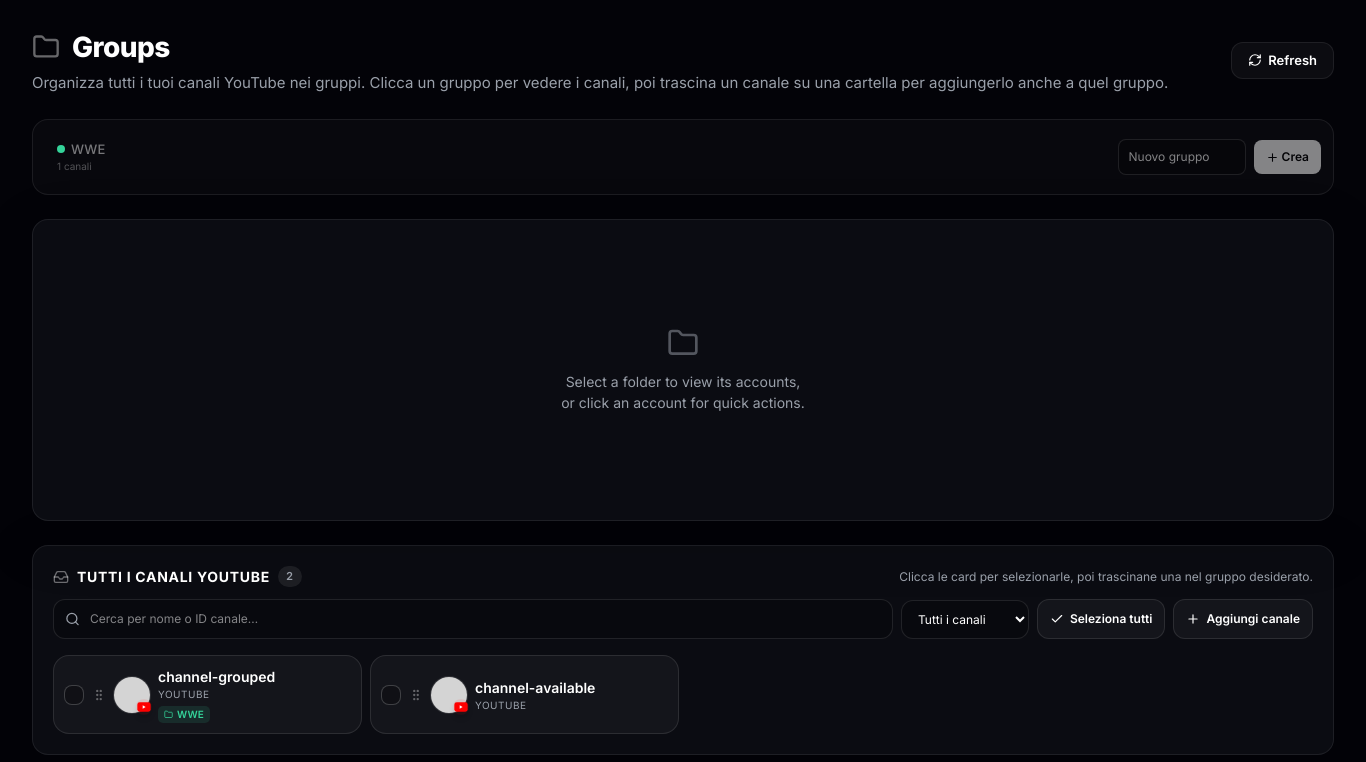
Test: GroupsPage › toggles an individual channel selection
The width and height of the screenshot is (1366, 762).
Click the button named "Seleziona channel-available" at coordinates (391, 694), box left=381, top=684, right=401, bottom=704
(page scrolled)
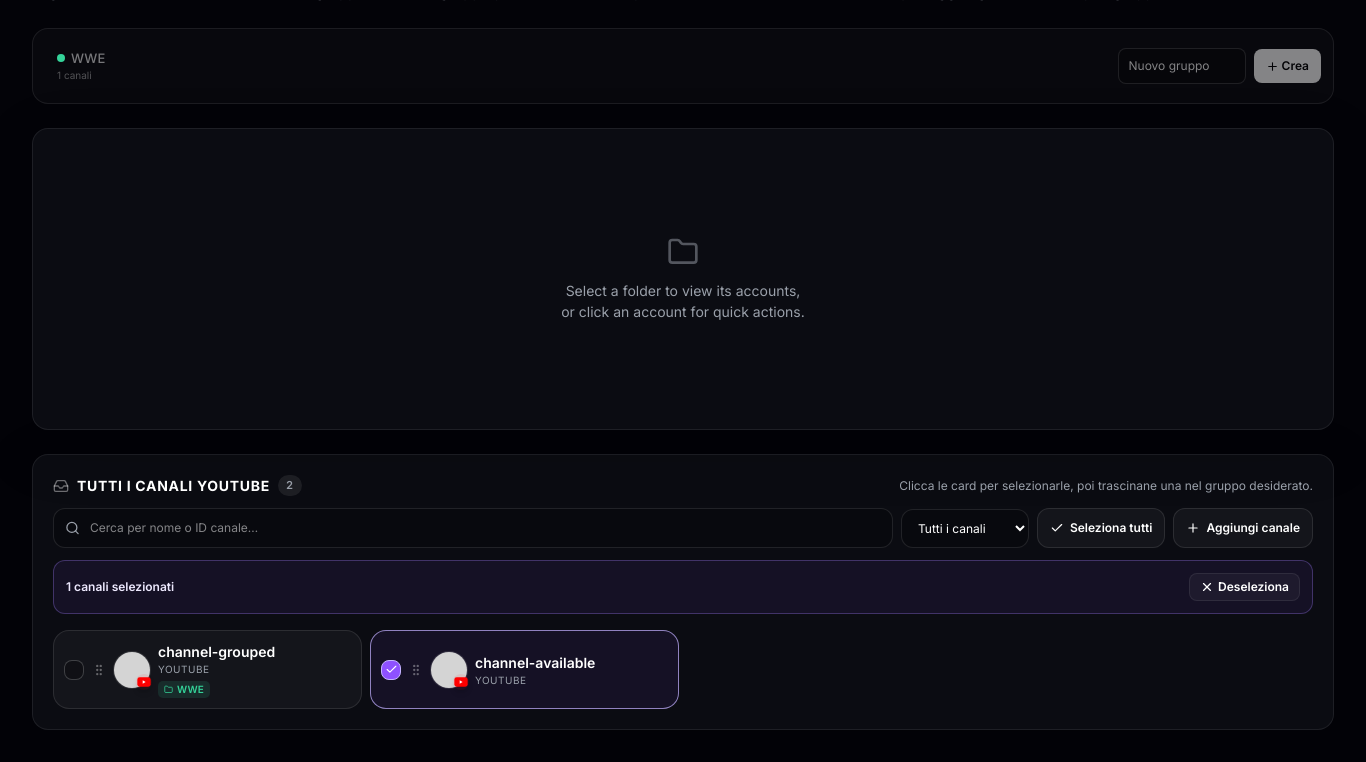
expect the text "1 canali selezionati" is shown: met, box left=66, top=578, right=174, bottom=596
Click the button named "Deseleziona channel-available" at coordinates (391, 670), box left=381, top=660, right=401, bottom=680
(page scrolled)
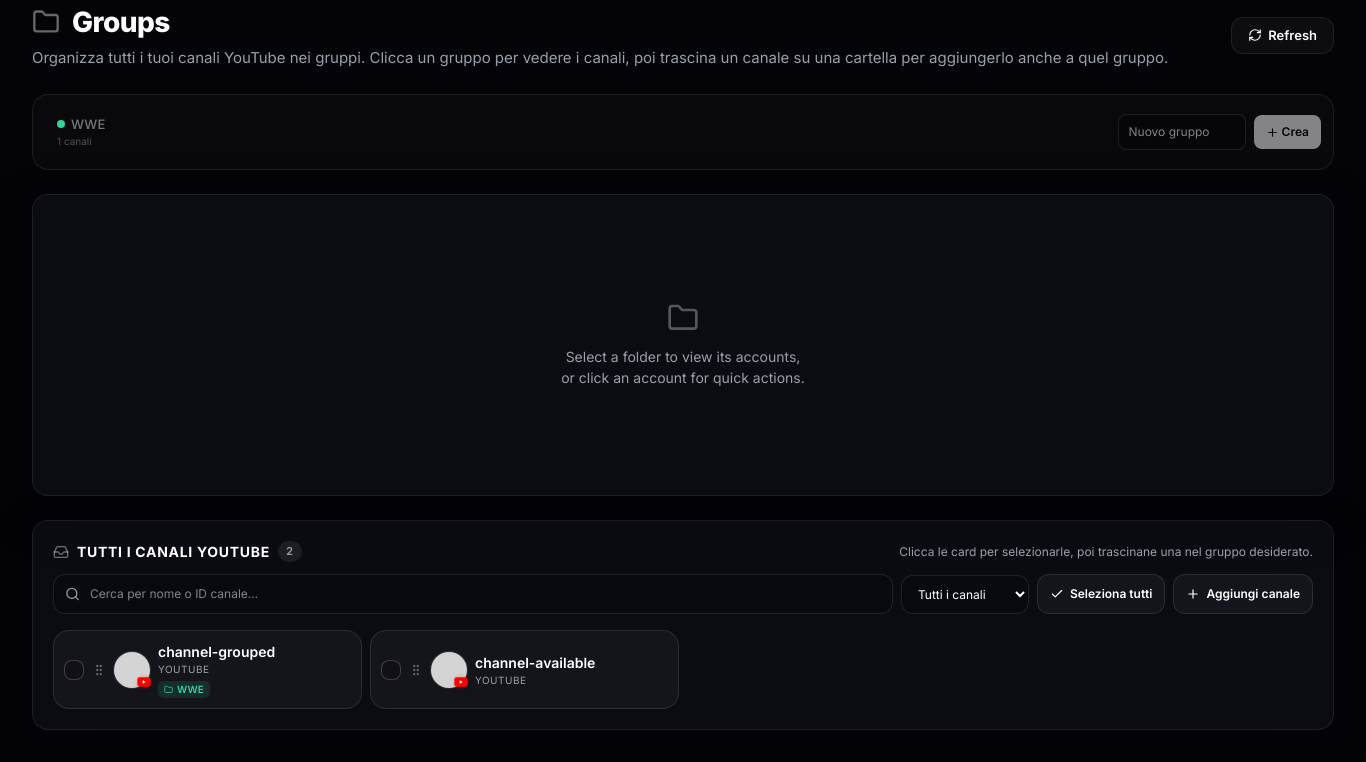
expect the text "canali selezionati" is gone: met
